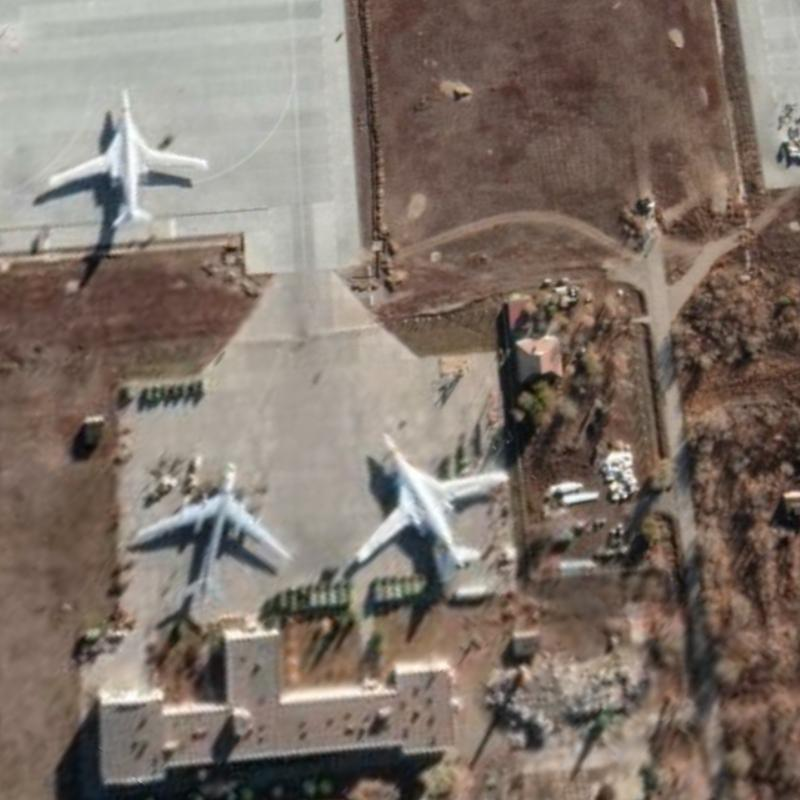A17: (133, 457, 295, 608)
A6: (352, 429, 511, 583), (45, 86, 211, 231)
